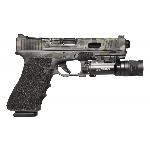Pistol: (6, 32, 144, 118)
